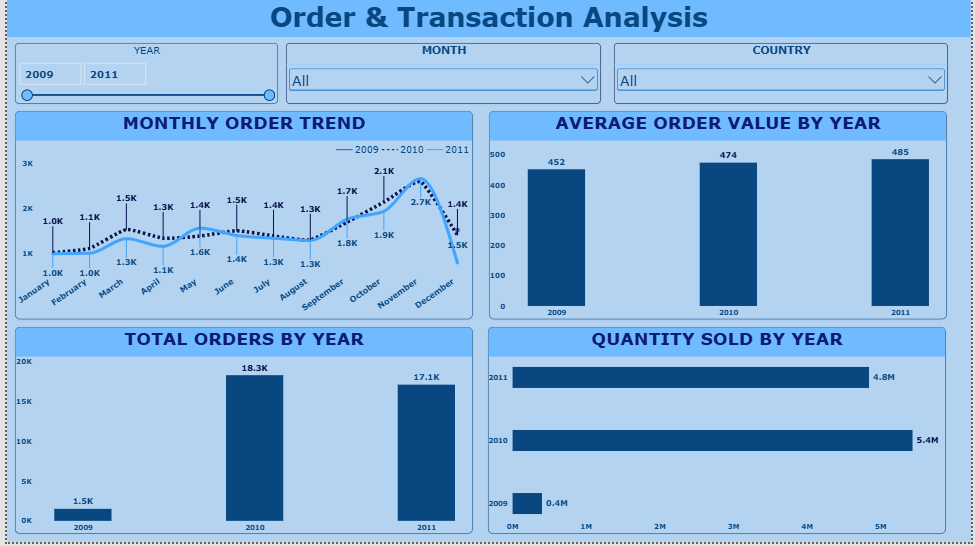

What the dashboard file says about the page in this screenshot:
{"tool":"powerbi","page":{"name":"Order & Transaction Analysis","canvas":[1920,1080],"ordinal":9},"visuals":[{"type":"textbox","box":[0,0,1920.2,73.9],"z":0},{"type":"lineChart","title":"MONTHLY ORDER TREND","fields":{"Category":["CLEANED.DATE.Variation.Date Hierarchy.Month"],"Series":["CLEANED.YEAR"],"Y":["CLEANED.Total Orders"]},"box":[15.7,221.8,912,414.5],"z":1000},{"type":"columnChart","title":"AVERAGE ORDER VALUE BY YEAR","fields":{"Category":["CLEANED.YEAR"],"Y":["CLEANED.Average Order Value"]},"box":[961.2,221.8,912,414.5],"z":2000},{"type":"clusteredColumnChart","title":"TOTAL ORDERS BY YEAR","fields":{"Category":["CLEANED.YEAR"],"Y":["CLEANED.Total Orders"]},"box":[15.7,652,912,412.3],"z":3000},{"type":"barChart","title":"QUANTITY SOLD BY YEAR","fields":{"Category":["CLEANED.YEAR"],"Y":["Sum(CLEANED.Quantity)"]},"box":[959,652,912,412.3],"z":4000},{"type":"slicer","title":"YEAR","fields":{"Values":["CLEANED.YEAR"]},"box":[15.7,85.1,524.3,121],"z":5000},{"type":"slicer","title":"MONTH","fields":{"Values":["CLEANED.MONTH"]},"box":[555.7,85.1,627.4,121],"z":6000},{"type":"slicer","title":"COUNTRY","fields":{"Values":["CLEANED.Country"]},"box":[1210,85.1,665.5,121],"z":7000}]}

Visuals, with their boxes in screenshot pixels (x1, y1, x2, y2), scaled from the page's 1920x1080 canvas onto the 975x546 screenshot:
textbox: Rect(0, 0, 974, 37)
"MONTHLY ORDER TREND" lineChart: Rect(8, 112, 471, 322)
"AVERAGE ORDER VALUE BY YEAR" columnChart: Rect(488, 112, 951, 322)
"TOTAL ORDERS BY YEAR" clusteredColumnChart: Rect(8, 330, 471, 538)
"QUANTITY SOLD BY YEAR" barChart: Rect(487, 330, 950, 538)
"YEAR" slicer: Rect(8, 43, 274, 104)
"MONTH" slicer: Rect(282, 43, 601, 104)
"COUNTRY" slicer: Rect(614, 43, 952, 104)
